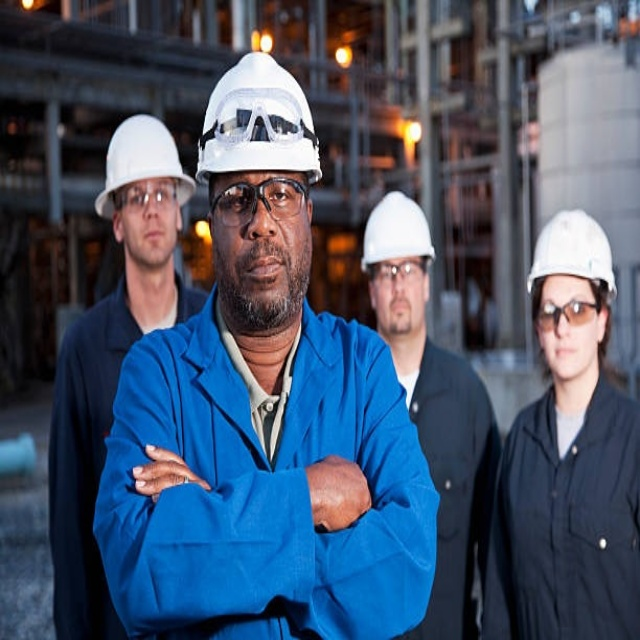Gafas: (209, 176, 308, 226), (113, 179, 182, 212), (534, 296, 599, 331), (367, 257, 428, 285)
Sin_guantes: (133, 443, 212, 499)
Sin_mascara: (235, 243, 292, 296), (550, 339, 585, 375), (138, 220, 172, 256), (385, 292, 415, 325)
